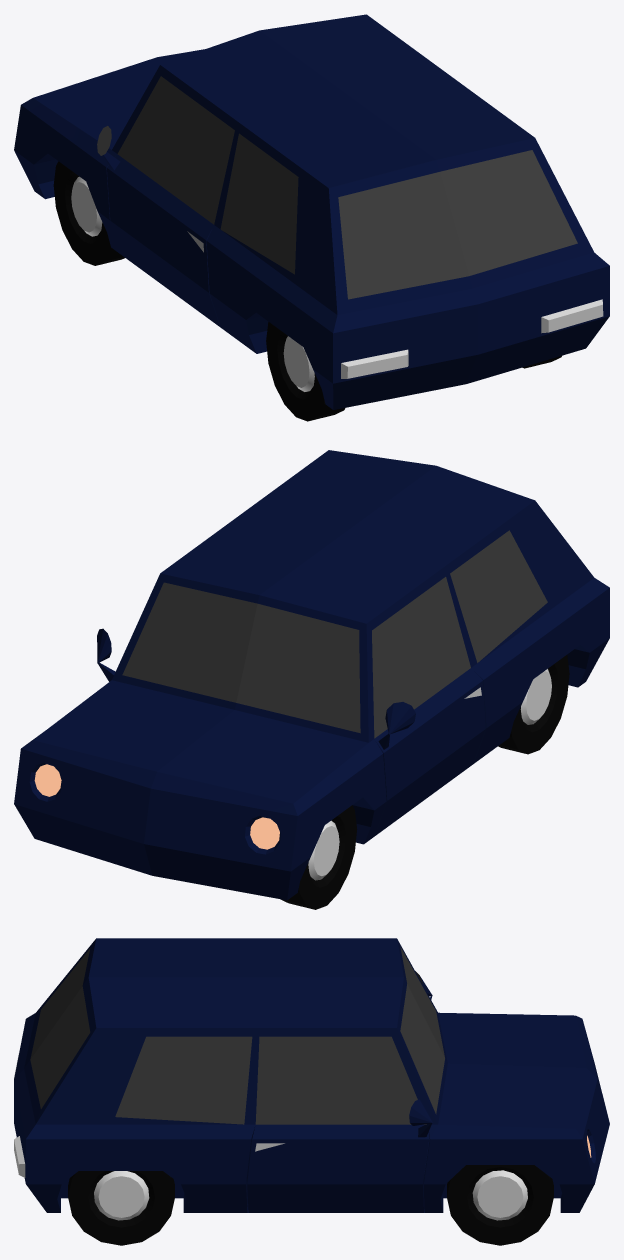
File: Car_Basic_8.glb
The picture shows the model from 3 angles, top to bottom: view 1: azimuth 30°, elevation 25°; view 2: azimuth 150°, elevation 25°; view 3: azimuth 270°, elevation 25°; orthographic projection. The views are drawn at different scales.
Visible parts, largest first — view 1: Car_Hatch_C_Body, Car_Hatch_C_DoorL, Car_Hatch_C_wheelFL, Car_Hatch_C_wheelRL; view 2: Car_Hatch_C_Body, Car_Hatch_C_DoorL, Car_Hatch_C_wheelFL, Car_Hatch_C_wheelRL; view 3: Car_Hatch_C_Body, Car_Hatch_C_DoorR, Car_Hatch_C_wheelFR, Car_Hatch_C_wheelRR.
Part boxes in pixels (x1,y1,x2,y2): Car_Hatch_C_Body: (14,14,609,409); Car_Hatch_C_DoorL: (97,76,234,327); Car_Hatch_C_wheelFL: (53,161,124,265); Car_Hatch_C_wheelRL: (266,322,345,421); Car_Hatch_C_Body: (14,450,609,900); Car_Hatch_C_DoorL: (372,577,485,836); Car_Hatch_C_wheelFL: (281,805,357,909); Car_Hatch_C_wheelRL: (498,655,569,754); Car_Hatch_C_Body: (14,938,609,1212); Car_Hatch_C_DoorR: (246,1036,432,1212); Car_Hatch_C_wheelFR: (447,1165,553,1245); Car_Hatch_C_wheelRR: (68,1171,174,1245).
Size of the model in its own units: 1.83 by 1.32 by 3.32.
